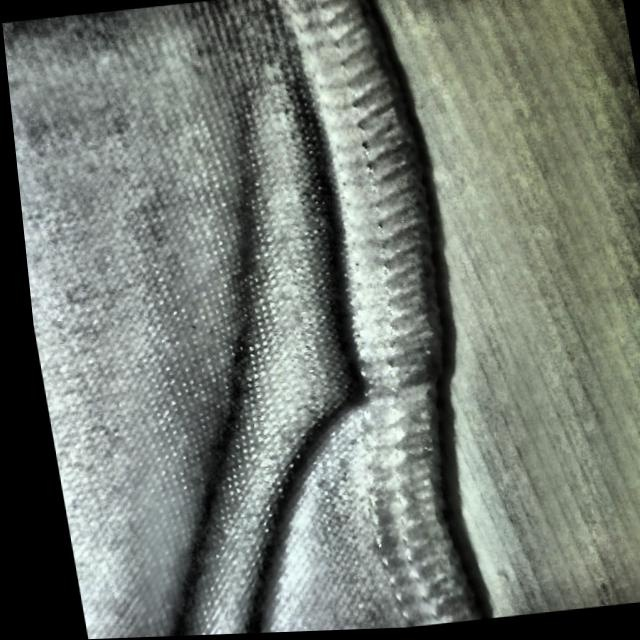seam: (207, 228, 477, 507)
